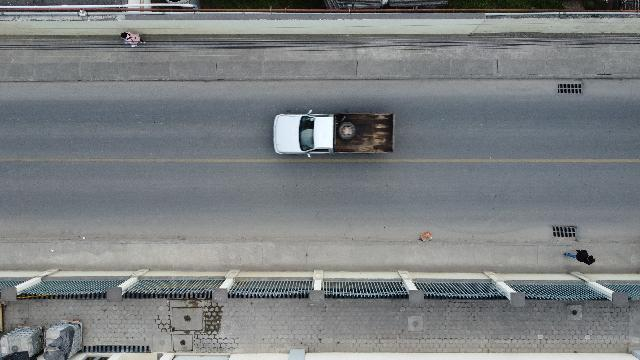Vehiculo: (273, 111, 395, 155)
